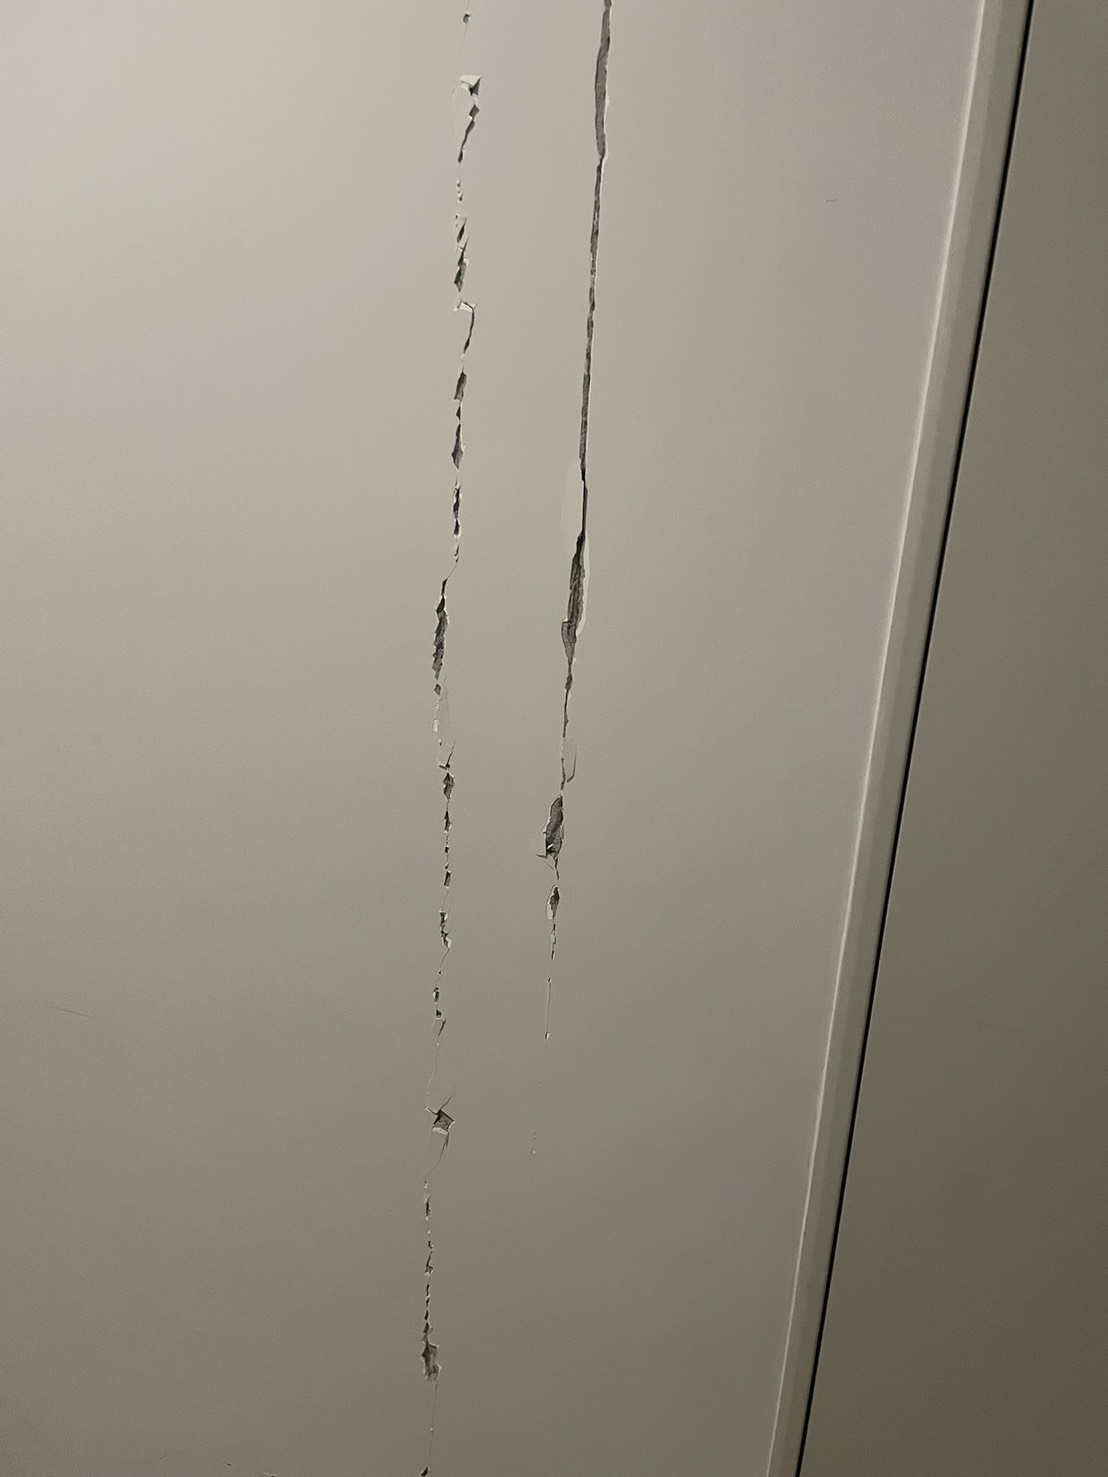Low: (395, 1, 674, 1472)
